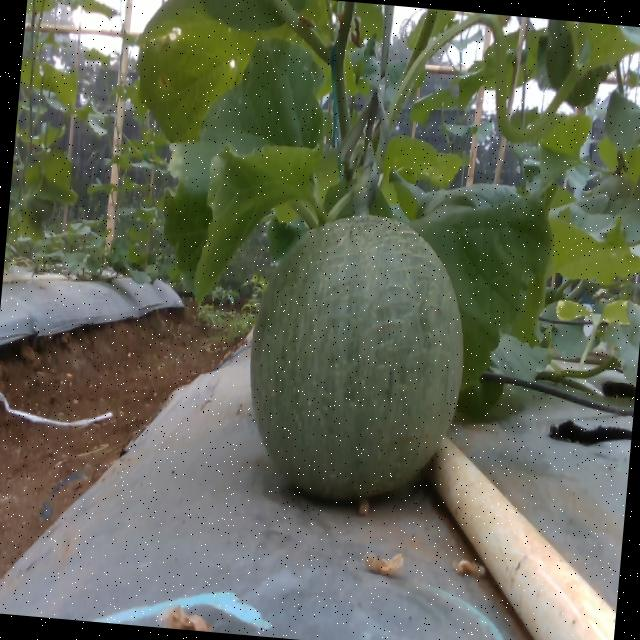melon: (251, 216, 463, 499)
